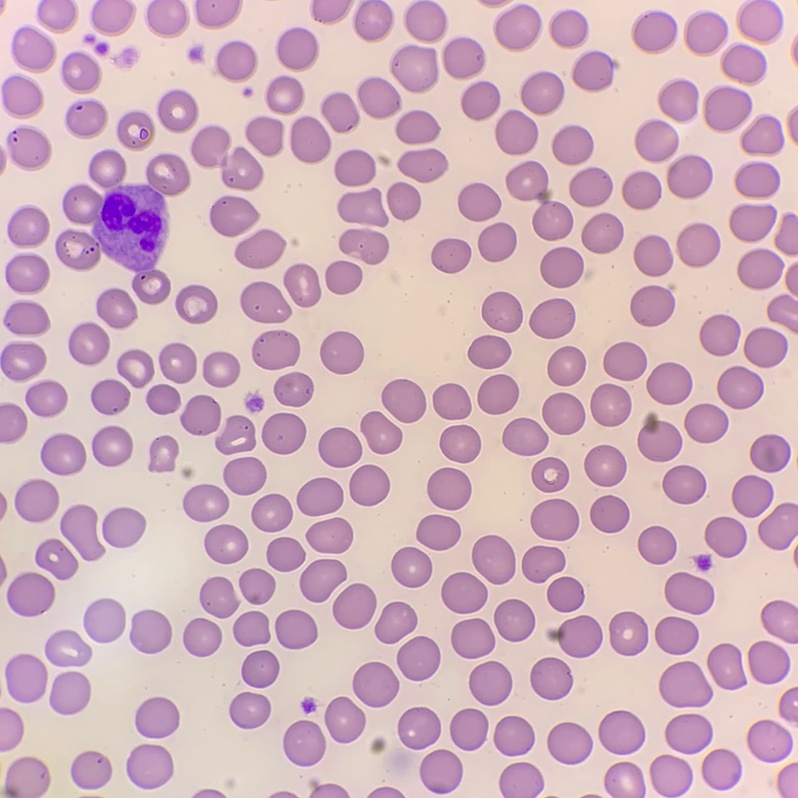RBC: (56, 150, 190, 303), (506, 161, 572, 240), (191, 126, 262, 190), (60, 505, 103, 560), (659, 661, 711, 706), (390, 45, 438, 92), (548, 616, 602, 657), (494, 4, 541, 50), (704, 85, 751, 131), (7, 572, 54, 616), (126, 744, 173, 788), (472, 535, 515, 583), (638, 414, 681, 461), (665, 572, 713, 614), (353, 662, 398, 706), (5, 654, 46, 702), (241, 282, 290, 322), (0, 757, 49, 797), (737, 0, 782, 43), (7, 125, 50, 170), (300, 559, 346, 601), (531, 499, 578, 540), (667, 155, 711, 198), (718, 366, 763, 408), (599, 711, 644, 753), (283, 720, 325, 765), (210, 196, 257, 236), (382, 379, 425, 422), (15, 479, 58, 522), (632, 10, 676, 52), (685, 10, 727, 54), (495, 110, 537, 154), (333, 584, 375, 628), (469, 661, 511, 705), (572, 50, 617, 91), (290, 116, 330, 162), (252, 330, 299, 369), (236, 230, 284, 268), (13, 28, 55, 71), (521, 71, 563, 114), (677, 223, 719, 266), (320, 331, 363, 373), (397, 637, 439, 680), (420, 750, 462, 793), (721, 43, 765, 84), (647, 363, 691, 404), (41, 433, 85, 474), (442, 572, 486, 613), (747, 720, 791, 761), (548, 722, 592, 763), (758, 503, 797, 549), (338, 189, 387, 225), (398, 707, 440, 749), (358, 77, 401, 118), (635, 120, 678, 161), (427, 468, 470, 509), (84, 599, 125, 642), (738, 249, 782, 289), (325, 697, 364, 742), (666, 714, 711, 753), (405, 0, 446, 42), (277, 28, 318, 70), (443, 37, 485, 78), (157, 90, 198, 132), (530, 658, 572, 699), (744, 327, 787, 367), (262, 413, 305, 453), (131, 610, 171, 653), (135, 697, 178, 737), (530, 299, 574, 338), (1, 342, 45, 381), (339, 229, 388, 264), (543, 393, 584, 434), (360, 412, 401, 453), (375, 602, 416, 643), (650, 755, 691, 796), (658, 79, 698, 121), (8, 205, 48, 247), (541, 247, 583, 287), (6, 253, 48, 293), (69, 322, 109, 364), (732, 475, 772, 517), (494, 599, 534, 641), (749, 641, 789, 683), (50, 672, 90, 714), (569, 167, 612, 206), (631, 286, 674, 325), (451, 619, 494, 658), (730, 204, 775, 241), (297, 478, 342, 515), (183, 484, 228, 521), (708, 644, 745, 689), (353, 0, 393, 41), (2, 76, 42, 117), (741, 114, 782, 154), (582, 213, 623, 253), (585, 445, 625, 486), (705, 517, 746, 557), (36, 539, 77, 579), (591, 384, 630, 426), (319, 428, 361, 467), (503, 418, 547, 455), (4, 300, 49, 336), (398, 149, 447, 182), (45, 630, 91, 665), (216, 41, 256, 81), (482, 292, 522, 332), (478, 374, 518, 414), (92, 426, 132, 466), (552, 125, 593, 164), (103, 508, 144, 547), (458, 183, 500, 221), (604, 342, 646, 380), (685, 404, 727, 442), (663, 465, 705, 503), (205, 525, 247, 563), (275, 610, 317, 648), (610, 612, 647, 655), (655, 617, 698, 654), (97, 288, 136, 328), (700, 315, 739, 355), (181, 395, 220, 435), (350, 465, 389, 505), (392, 547, 431, 587), (66, 100, 107, 138), (223, 457, 265, 494), (307, 518, 352, 552), (494, 716, 533, 755), (62, 53, 100, 93), (634, 235, 672, 275), (176, 285, 216, 323), (750, 434, 790, 472), (702, 749, 740, 789), (71, 751, 111, 789), (450, 709, 487, 750), (284, 264, 320, 306), (522, 546, 564, 582), (736, 162, 779, 197), (549, 9, 588, 47), (440, 425, 480, 462), (252, 494, 292, 531), (200, 577, 237, 617), (229, 692, 270, 728), (417, 515, 460, 549), (500, 763, 543, 797), (461, 81, 499, 119), (622, 171, 660, 209), (478, 223, 516, 261), (183, 618, 221, 656), (321, 93, 358, 132), (246, 117, 283, 156), (159, 343, 196, 382), (335, 150, 375, 186), (26, 380, 66, 416), (147, 0, 188, 35), (762, 601, 797, 642), (92, 0, 134, 34), (266, 76, 303, 114), (117, 111, 154, 149), (548, 347, 585, 385), (216, 416, 254, 453), (590, 495, 628, 532), (638, 526, 676, 563), (396, 110, 438, 143), (468, 335, 510, 368), (117, 349, 153, 387), (605, 762, 644, 797), (242, 650, 278, 687), (91, 379, 129, 414), (274, 372, 313, 406), (433, 384, 470, 419), (431, 239, 470, 272), (267, 537, 304, 571), (239, 569, 274, 604), (203, 352, 239, 386), (547, 577, 583, 611), (233, 611, 269, 645), (387, 182, 420, 219), (38, 0, 76, 32), (196, 0, 241, 27), (326, 261, 362, 294), (532, 458, 568, 491), (768, 295, 797, 331), (0, 403, 26, 442), (0, 708, 23, 751), (150, 436, 178, 471), (147, 384, 179, 414), (312, 0, 352, 22), (775, 214, 797, 254), (778, 763, 797, 797), (779, 687, 797, 721), (311, 784, 347, 797), (390, 752, 410, 771), (786, 264, 797, 295), (370, 787, 401, 797), (245, 394, 262, 411), (788, 109, 797, 139), (695, 554, 710, 570), (195, 789, 222, 797), (190, 45, 203, 61), (371, 738, 385, 752), (304, 697, 315, 711), (483, 0, 506, 6), (95, 43, 107, 54), (0, 149, 6, 169), (0, 497, 6, 515), (0, 563, 6, 580), (274, 792, 292, 797), (122, 50, 130, 60), (183, 468, 191, 476), (793, 43, 797, 57)
